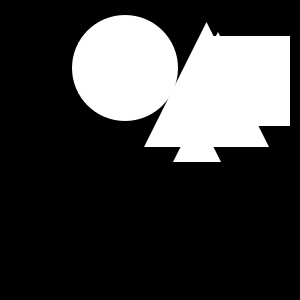circle: (200, 36, 290, 126)
rectangle: (72, 15, 178, 121)
triangle: (144, 22, 269, 147), (181, 32, 255, 106), (173, 114, 221, 162)
